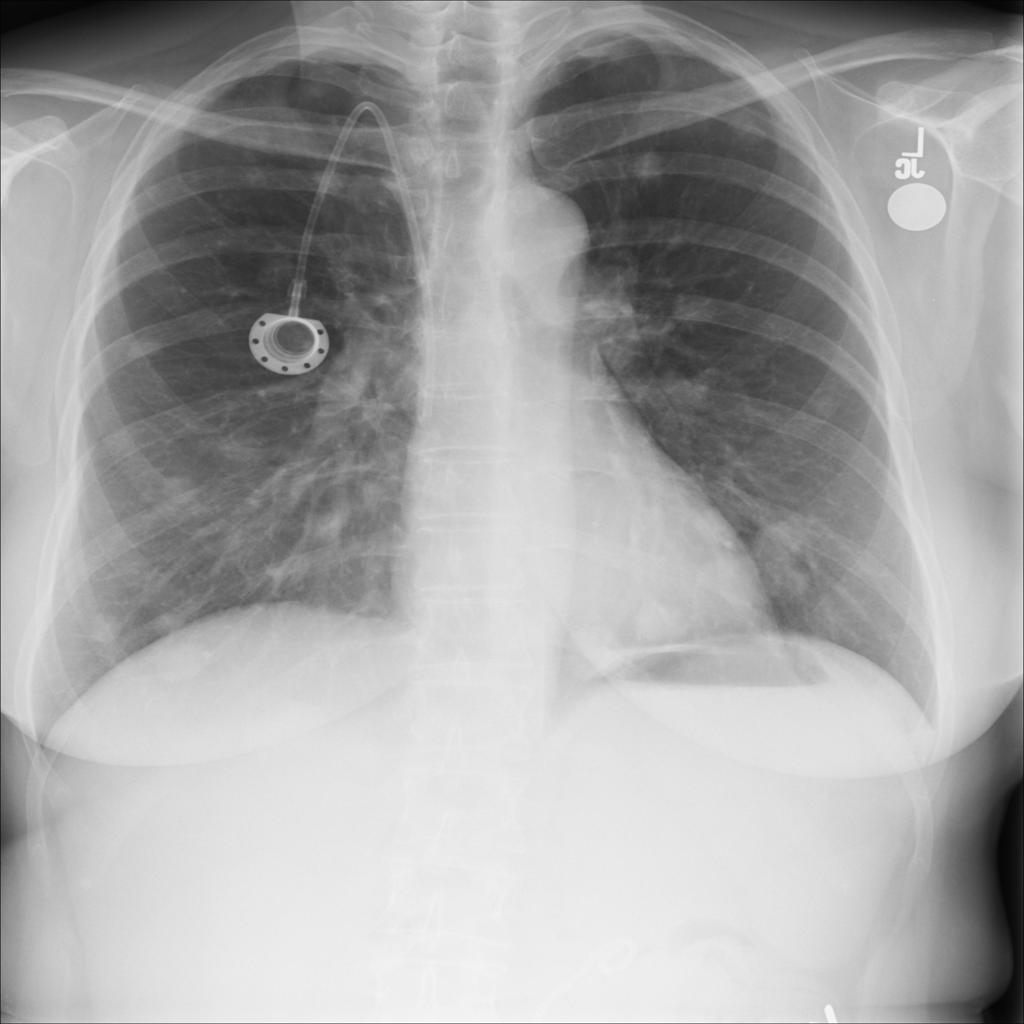nodule: (738, 504, 832, 612), (131, 603, 215, 670), (644, 359, 729, 425), (562, 611, 635, 687), (685, 553, 763, 623), (141, 632, 227, 695), (618, 586, 699, 652), (198, 418, 283, 478), (678, 495, 754, 560), (708, 97, 785, 159), (662, 276, 735, 338), (149, 466, 207, 514), (248, 250, 307, 296), (76, 604, 134, 650), (623, 142, 678, 190), (115, 326, 176, 368), (801, 382, 854, 430)
